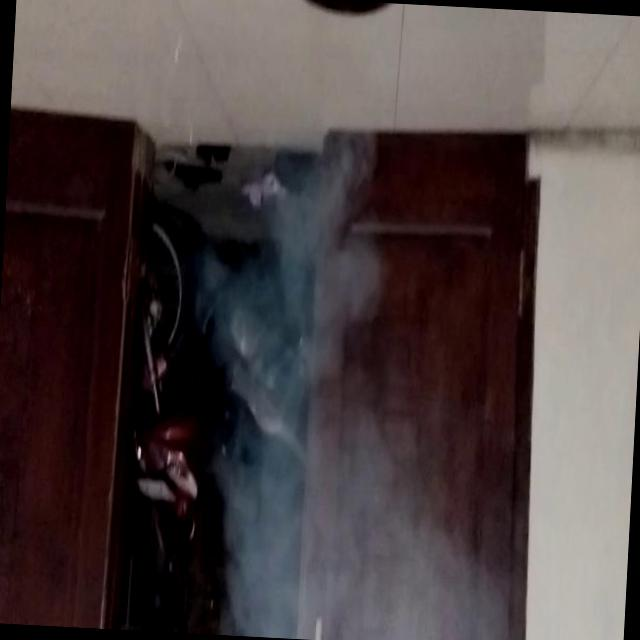smoke: (221, 134, 444, 636)
